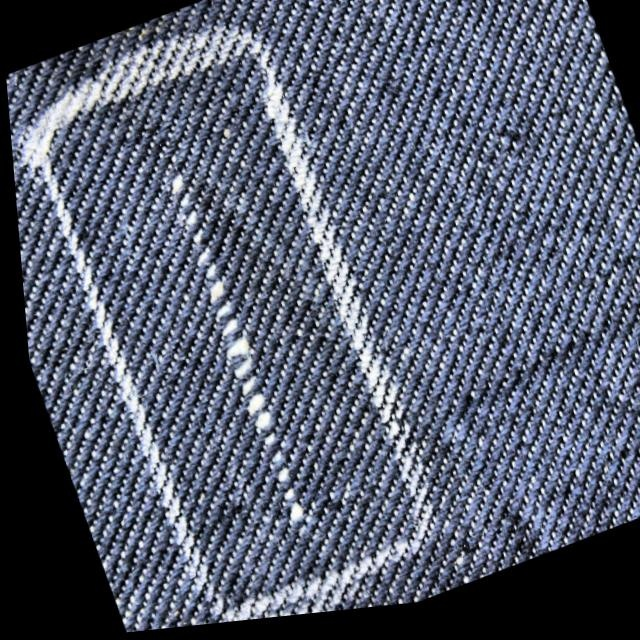Hole: (117, 123, 343, 575)
